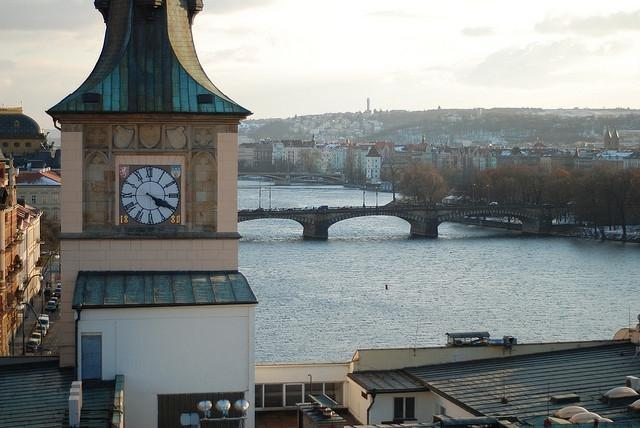car: (26, 339, 40, 352), (36, 316, 50, 329), (28, 332, 41, 344), (45, 301, 57, 311), (34, 326, 46, 336), (50, 296, 60, 306), (300, 206, 314, 212), (53, 288, 62, 296), (57, 282, 62, 288), (284, 208, 294, 210)
